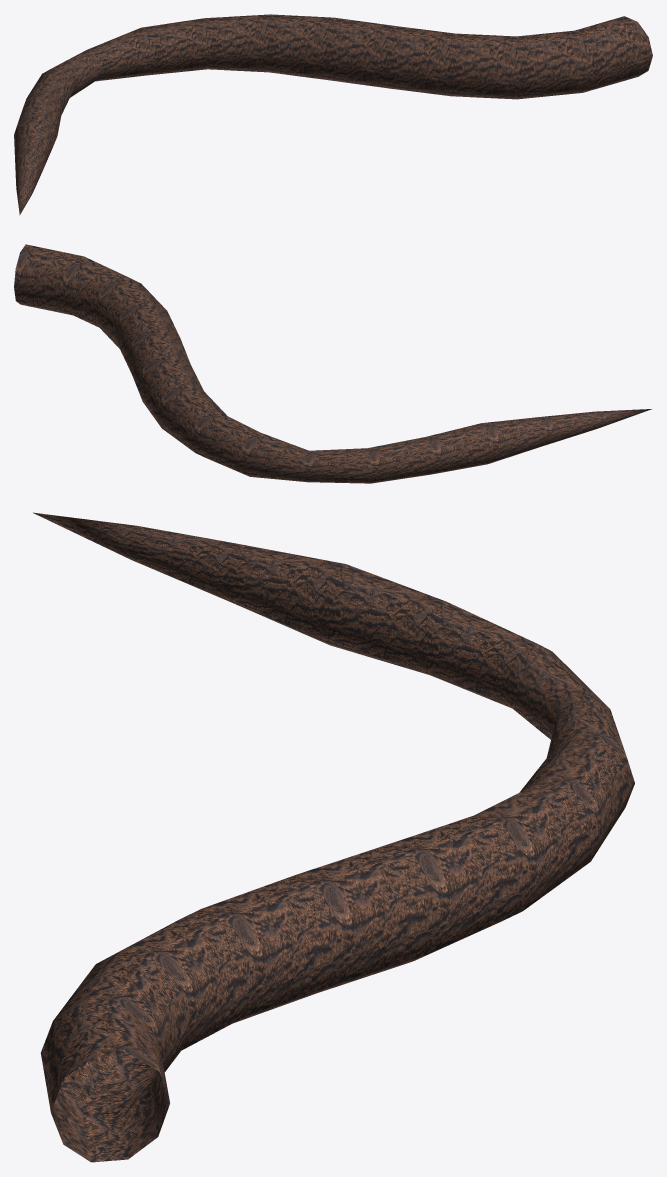
Rendered from branch_1.fbx.
The picture shows the model from 3 angles, top to bottom: view 1: azimuth 30°, elevation 25°; view 2: azimuth 150°, elevation 25°; view 3: azimuth 270°, elevation 25°; orthographic projection. The views are drawn at different scales.
Visible parts, largest first — view 1: branch_2; view 2: branch_2; view 3: branch_2.
Part boxes in pixels (x1=…): branch_2: x1=14, y1=14, x2=652, y2=215; branch_2: x1=14, y1=244, x2=651, y2=483; branch_2: x1=33, y1=512, x2=634, y2=1162.
Bounding box in the file's own units: 386 × 33.44 × 164.
